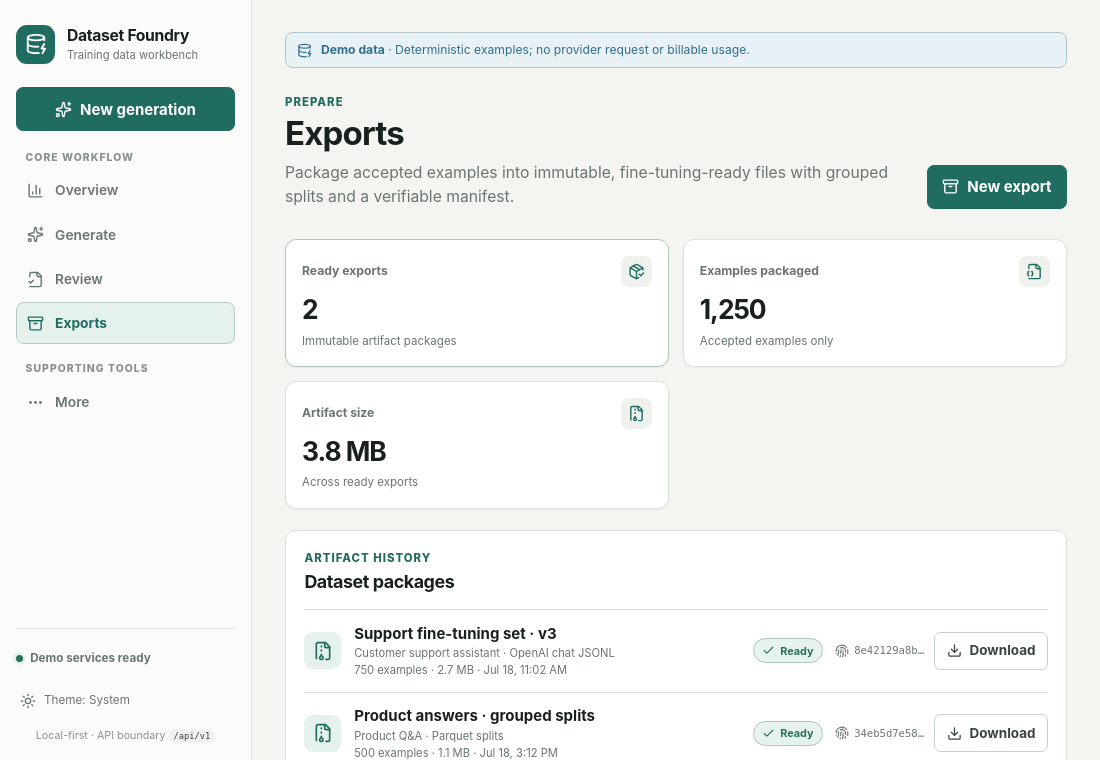
Test: Dataset Foundry workbench › excludes completed runs without accepted examples
The image size is (1100, 760).
Click the button "New export" at {"x": 997, "y": 187}, box [927, 165, 1067, 209]
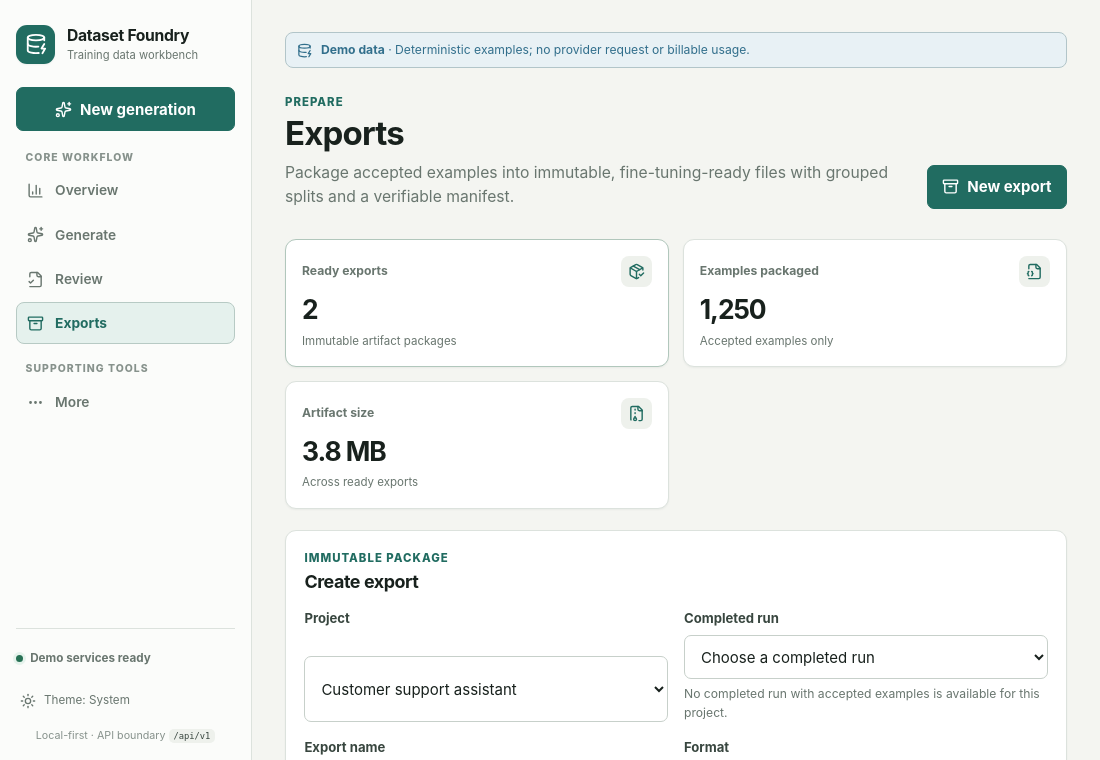
Now the text "No completed run with accepted examples is available for this project." is shown, box [684, 609, 1048, 722]
